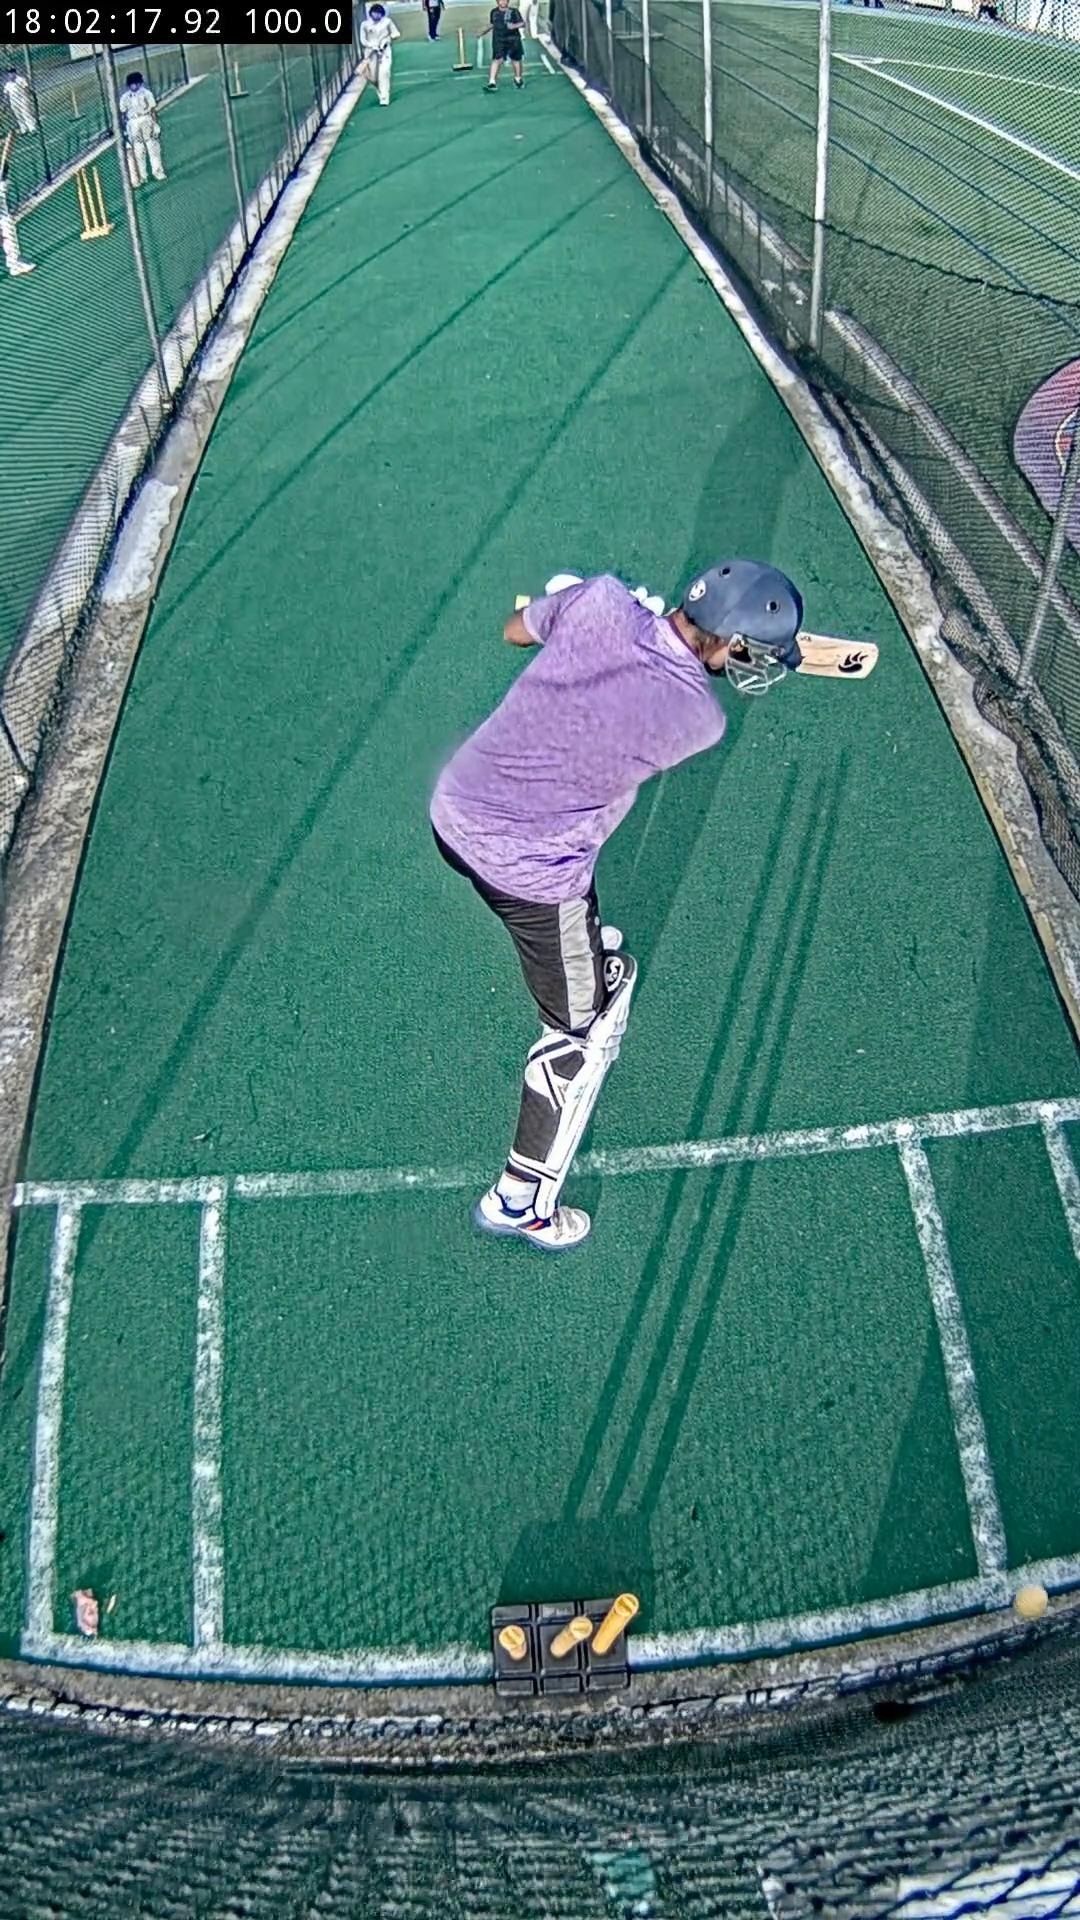ball: (1013, 1582, 1050, 1619)
bat: (799, 634, 877, 679)
gloves: (630, 585, 663, 615), (547, 574, 582, 592)
helmet: (683, 559, 803, 694)
pads: (537, 952, 637, 1218)
stumps: (492, 1594, 641, 1698)
